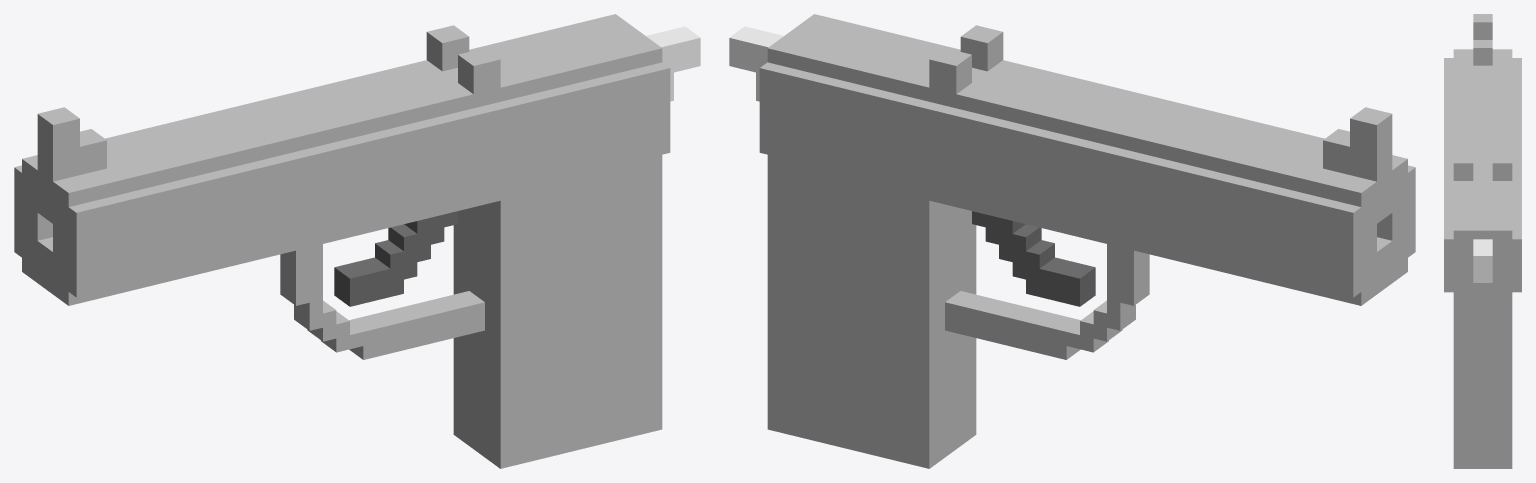
File: Pistolet.fbx
The picture shows the model from 3 angles, left to right: view 1: azimuth 30°, elevation 25°; view 2: azimuth 150°, elevation 25°; view 3: azimuth 270°, elevation 25°; orthographic projection. The views are drawn at different scales.
Parts seen in each view (by area): view 1: Partie gauche du cannon, Crosse gauche, Partie avant de la partie principale, object 2, Partie droite du cannon, Gachette, object 12, Partie gauche de la partie principale, Chien, object 5, object 3; view 2: Partie droite du cannon, Crosse droite, Partie avant de la partie principale, object 2, Partie gauche du cannon, Gachette, object 12, Partie droite de la partie principale, Chien, object 5, object 4; view 3: object 12, object 2, Partie gauche du cannon, Partie droite du cannon, Chien, object 5, object 3, object 4, object 6.
Part boxes in pixels (box(x1,y1,x2,y2)): Partie gauche du cannon: box(61, 42, 670, 305); Crosse gauche: box(514, 164, 648, 451); Partie avant de la partie principale: box(280, 197, 513, 468); object 2: box(29, 19, 654, 215); Partie droite du cannon: box(14, 14, 622, 276); Gachette: box(334, 211, 457, 306); object 12: box(649, 161, 662, 432); Partie gauche de la partie principale: box(514, 418, 648, 465); Chien: box(646, 26, 700, 101); object 5: box(29, 249, 60, 299); object 3: box(29, 193, 52, 240); Partie droite du cannon: box(759, 42, 1368, 305); Crosse droite: box(781, 164, 915, 451); Partie avant de la partie principale: box(916, 197, 1149, 468); object 2: box(775, 19, 1400, 215); Partie gauche du cannon: box(807, 14, 1415, 276); Gachette: box(972, 211, 1095, 306); object 12: box(767, 161, 780, 432); Partie droite de la partie principale: box(781, 418, 915, 465); Chien: box(729, 26, 783, 101); object 5: box(1369, 249, 1400, 299); object 4: box(1377, 207, 1400, 254); object 12: box(1453, 301, 1512, 468); object 2: box(1453, 14, 1512, 248); Partie gauche du cannon: box(1444, 49, 1463, 301); Partie droite du cannon: box(1502, 49, 1521, 301); Chien: box(1473, 239, 1492, 282); object 5: box(1463, 283, 1502, 301); object 3: box(1492, 248, 1502, 274); object 4: box(1463, 257, 1473, 283); object 6: box(1473, 274, 1502, 283).
Bounding box in the file's own units: 4800 × 3100 × 800.
